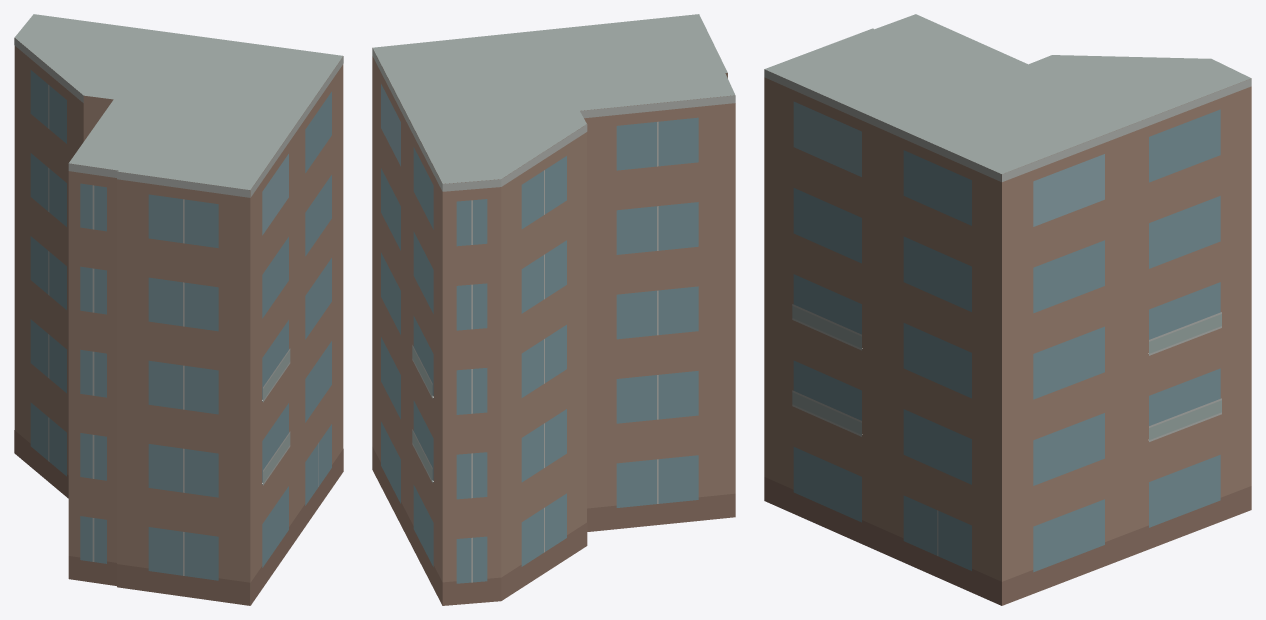
The model's file is survey-upis-32668307.glb.
The picture shows the model from 3 angles, left to right: view 1: azimuth 30°, elevation 25°; view 2: azimuth 150°, elevation 25°; view 3: azimuth 270°, elevation 25°; orthographic projection. The views are drawn at different scales.
Parts seen in each view (by area): view 1: survey-upis-32668307.tmp; view 2: survey-upis-32668307.tmp; view 3: survey-upis-32668307.tmp.
Part boxes in pixels (box(x1,y1,x2,y2)): survey-upis-32668307.tmp: box(14, 14, 343, 605); survey-upis-32668307.tmp: box(372, 14, 735, 605); survey-upis-32668307.tmp: box(764, 14, 1251, 605).
Bounding box in the file's own units: 10.44 × 13.1 × 13.41.
